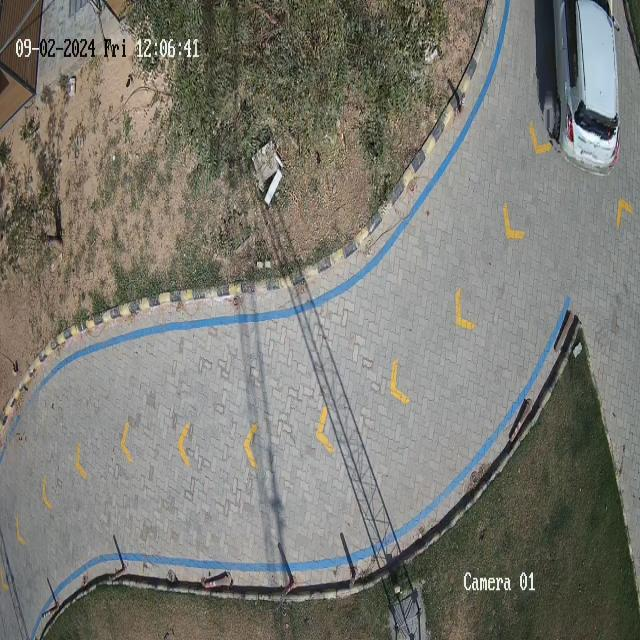car: (551, 0, 619, 173)
